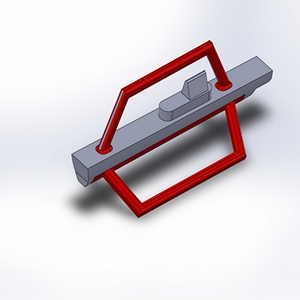submarine: (25, 20, 300, 220)
